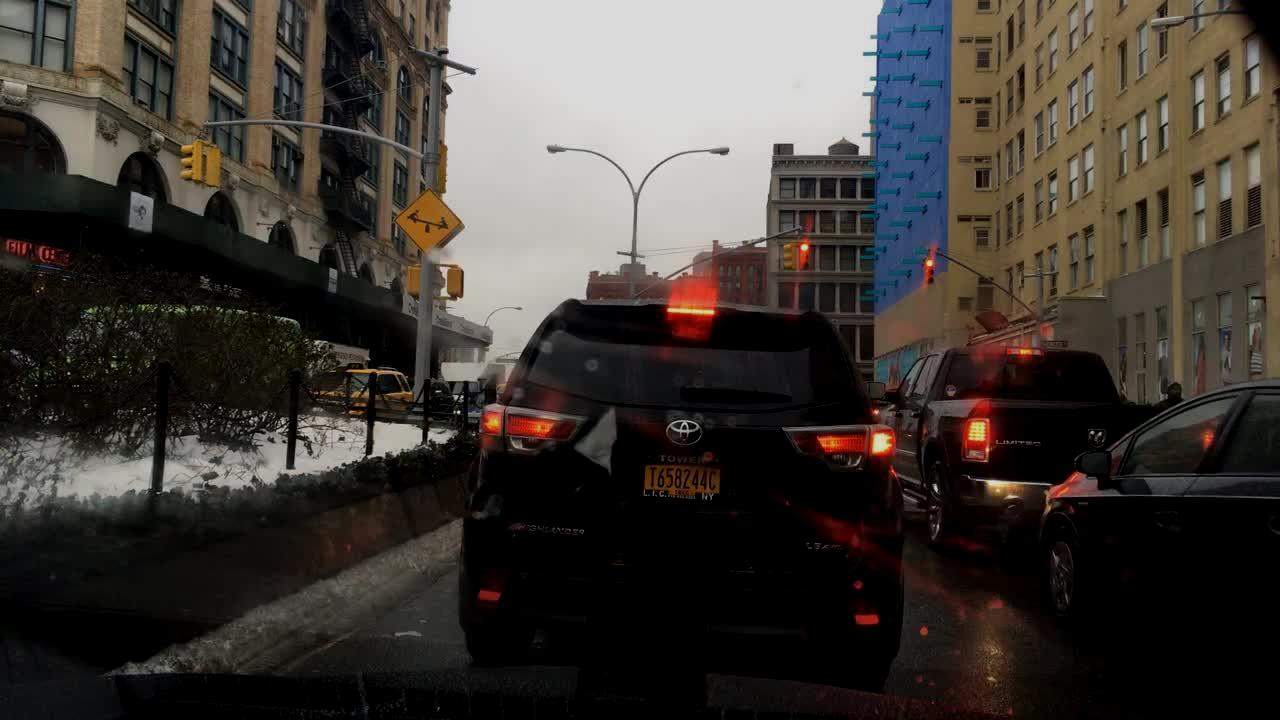Toyota: (658, 412, 716, 456)
ram: (1079, 420, 1117, 455)
